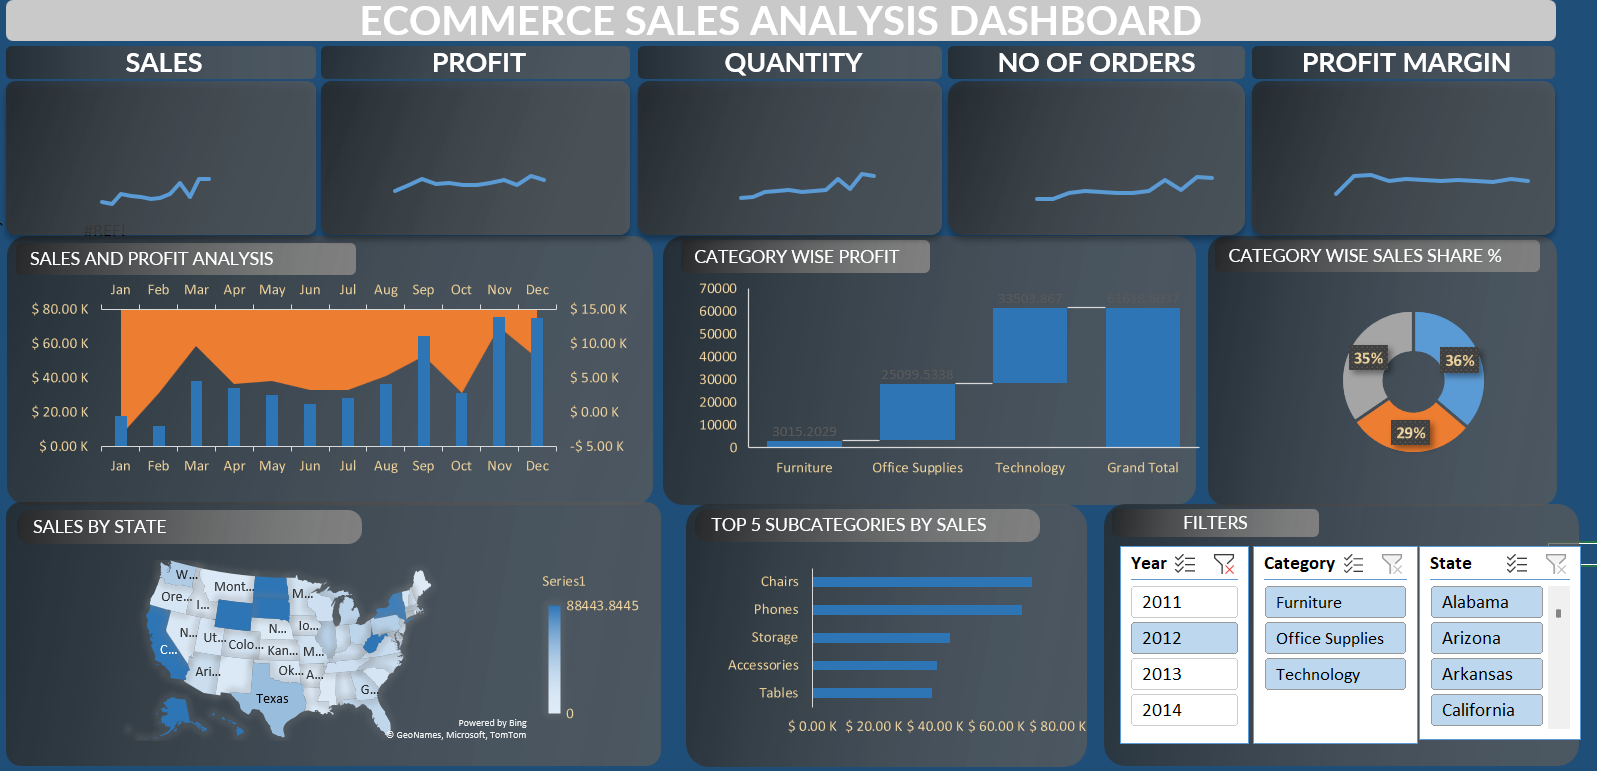

What the dashboard file says about the page in this screenshot:
{"tool":"powerbi","page":{"name":"Page 1","canvas":[1280,720],"ordinal":0},"visuals":[{"type":"card","title":"SALES","fields":{"Values":["Sum(Data.Sales)"]},"box":[28,97.3,221.2,143.1],"z":0},{"type":"card","title":"PROFIT","fields":{"Values":["Sum(Data.Profit)"]},"box":[275.8,97.3,219.8,143.1],"z":1000},{"type":"card","title":"QUANTITY","fields":{"Values":["Sum(Data.Quantity)"]},"box":[529.5,97.3,221.2,143.1],"z":2000},{"type":"card","title":"PROFIT MARGIN","fields":{"Values":["Sum(KPI.Sum of Profit Margin)"]},"box":[1031,98.8,221.2,143.1],"z":3000},{"type":"card","title":"NO OF ORDERS","fields":{"Values":["Sum(KPI.Sum of Quantity)"]},"box":[784.7,98.8,221.2,143.1],"z":4000},{"type":"textbox","box":[4.9,20.9,1266.3,58.9],"z":5000},{"type":"donutChart","title":"CATEGORY WISE SALES SHARE %","fields":{"Category":["Data.Category"],"Y":["Sum(Data.Sales)"]},"box":[28.2,483.4,300.6,222.1],"z":6000},{"type":"clusteredBarChart","title":"CATEGORY WISE PROFIT","fields":{"Category":["Data.Category"],"Y":["Sum(Data.Profit)"]},"box":[458.9,255.2,398.8,212.3],"z":7000},{"type":"lineClusteredColumnComboChart","title":"SALES AND PROFIT ANALYSIS","fields":{"Category":["Data.Order Date.Variation.Date Hierarchy.Month"],"Y2":["Sum(Data.Profit)"],"Y":["Sum(Data.Sales)"]},"box":[28.2,256.4,414.7,213.5],"z":8000},{"type":"clusteredBarChart","title":"TOP 5 SUBCATEGORY BY SALES","fields":{"Category":["Data.Sub-Category"],"Y":["Sum(Data.Sales)"]},"box":[337.4,484.4,374.4,221.2],"z":9000},{"type":"slicer","title":"CATEGORY WISE SALES SHARE %","fields":{"Values":["Data.Category","Data.Sales"]},"box":[1056.4,483.4,195.1,217.2],"z":10000},{"type":"slicer","title":"CATEGORY WISE SALES SHARE %","fields":{"Values":["Data.State"]},"box":[717.8,476.1,177.9,229.4],"z":11000},{"type":"slicer","title":"CATEGORY WISE SALES SHARE %","fields":{"Values":["Data.Year"]},"box":[904.3,483.4,141.1,220.9],"z":12000},{"type":"pieChart","title":"REGION WISE PROFIT","fields":{"Category":["Data.Region"],"Y":["Sum(Data.Profit)"]},"box":[872.4,255.2,379.1,212.3],"z":13000}]}

Visuals, with their boxes on the page's 1280x720 design canvas (x1, y1, x2, y2). These are canvas units, not pixel positions in the 1597x771 screenshot, which may show the page scaled, cropped or inside an application window:
"SALES" card: 28, 97, 249, 240
"PROFIT" card: 276, 97, 496, 240
"QUANTITY" card: 530, 97, 751, 240
"PROFIT MARGIN" card: 1031, 99, 1252, 242
"NO OF ORDERS" card: 785, 99, 1006, 242
textbox: 5, 21, 1271, 80
"CATEGORY WISE SALES SHARE %" donutChart: 28, 483, 329, 706
"CATEGORY WISE PROFIT" clusteredBarChart: 459, 255, 858, 468
"SALES AND PROFIT ANALYSIS" lineClusteredColumnComboChart: 28, 256, 443, 470
"TOP 5 SUBCATEGORY BY SALES" clusteredBarChart: 337, 484, 712, 706
"CATEGORY WISE SALES SHARE %" slicer: 1056, 483, 1252, 701
"CATEGORY WISE SALES SHARE %" slicer: 718, 476, 896, 706
"CATEGORY WISE SALES SHARE %" slicer: 904, 483, 1045, 704
"REGION WISE PROFIT" pieChart: 872, 255, 1252, 468
